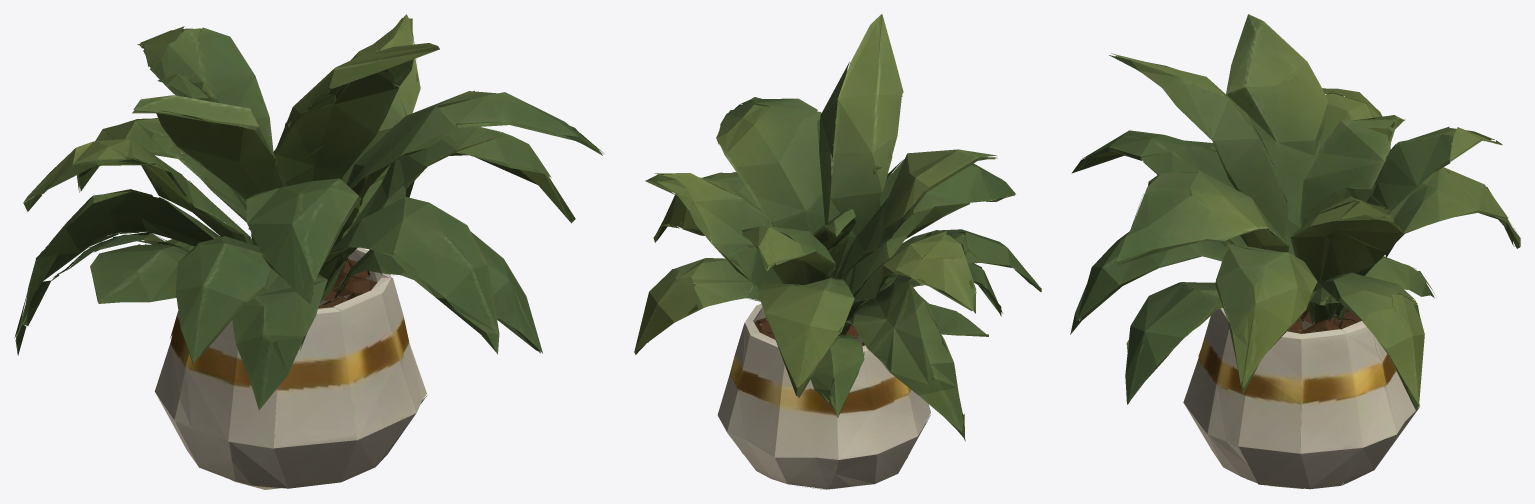
File: plante-a.glb
3 views of the same model, side by side, from view 1: azimuth 30°, elevation 25°; view 2: azimuth 150°, elevation 25°; view 3: azimuth 270°, elevation 25° (orthographic). The views are drawn at different scales.
Parts seen in each view (by area): view 1: plante-a; view 2: plante-a; view 3: plante-a.
Boxes of the visible parts, left/top/right/bottom form: plante-a: left=14, top=14, right=604, bottom=489; plante-a: left=634, top=14, right=1041, bottom=489; plante-a: left=1070, top=14, right=1520, bottom=489.
Size of the model in its own units: 1.05 by 1 by 0.9681.
1 material, 1 textured.
